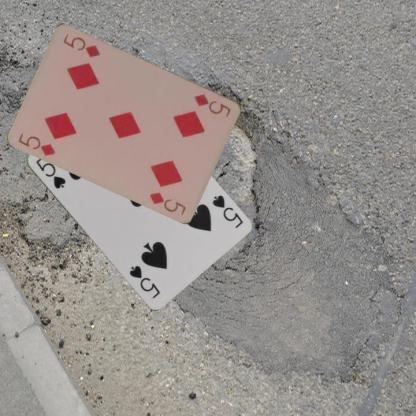5d: (192, 91, 233, 119), (16, 130, 57, 158)
5s: (209, 192, 244, 230), (33, 153, 66, 190)
